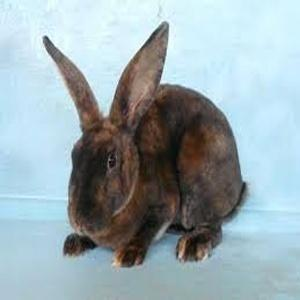rabbit: (44, 23, 245, 266)
